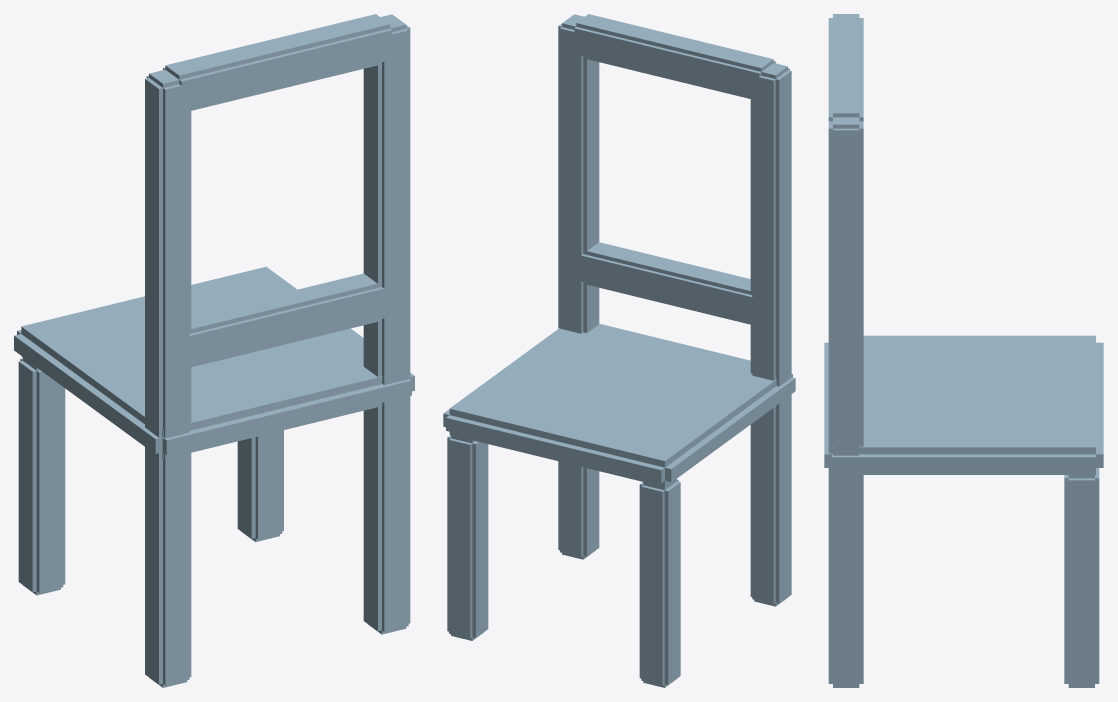
File: glass_chair_v0.glb
3 renders of one model, left to right at view 1: azimuth 30°, elevation 25°; view 2: azimuth 150°, elevation 25°; view 3: azimuth 270°, elevation 25°, orthographic. The views are drawn at different scales.
Visible parts, largest first — view 1: glass_chair_v0; view 2: glass_chair_v0; view 3: glass_chair_v0.
Part boxes in pixels (left/top/right/bottom): glass_chair_v0: left=14, top=14, right=414, bottom=687; glass_chair_v0: left=443, top=14, right=795, bottom=687; glass_chair_v0: left=824, top=14, right=1103, bottom=687.
Bounding box in the file's own units: 0.64 × 1.43 × 0.64.
